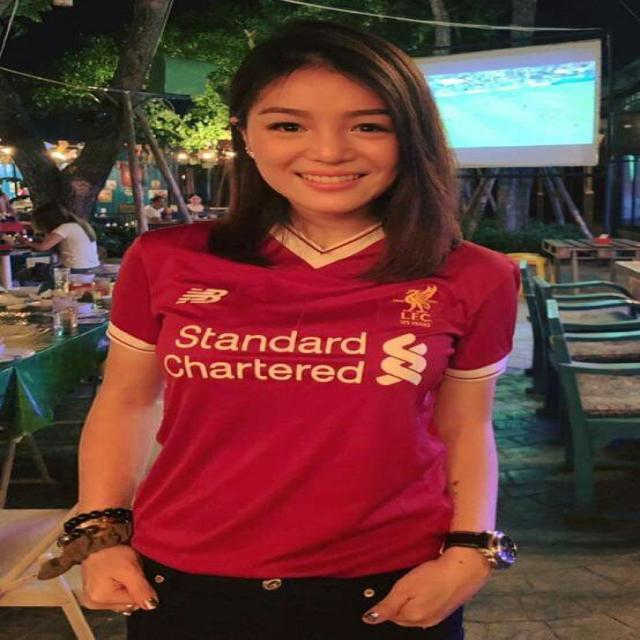Standard Chartered: (163, 325, 427, 388)
